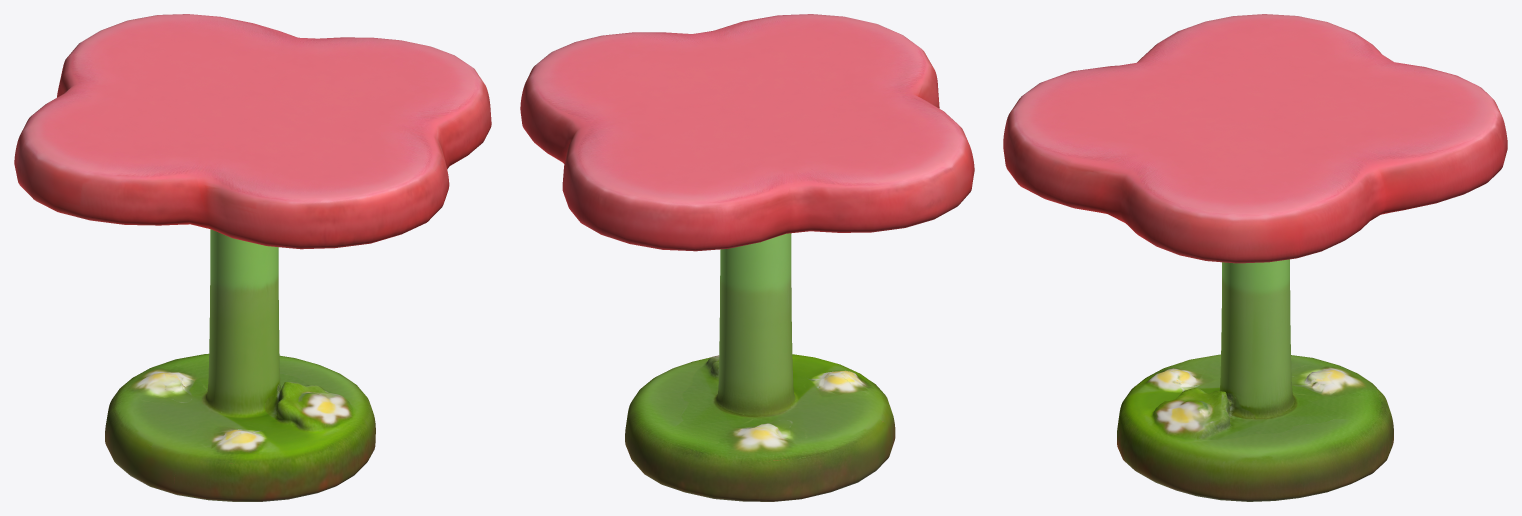
The model's file is FlowerStool.glb.
3 renders of one model, left to right at view 1: azimuth 30°, elevation 25°; view 2: azimuth 150°, elevation 25°; view 3: azimuth 270°, elevation 25°, orthographic.
Size of the model in its own units: 1.91 by 1.43 by 1.91.
1 material, 1 textured.
